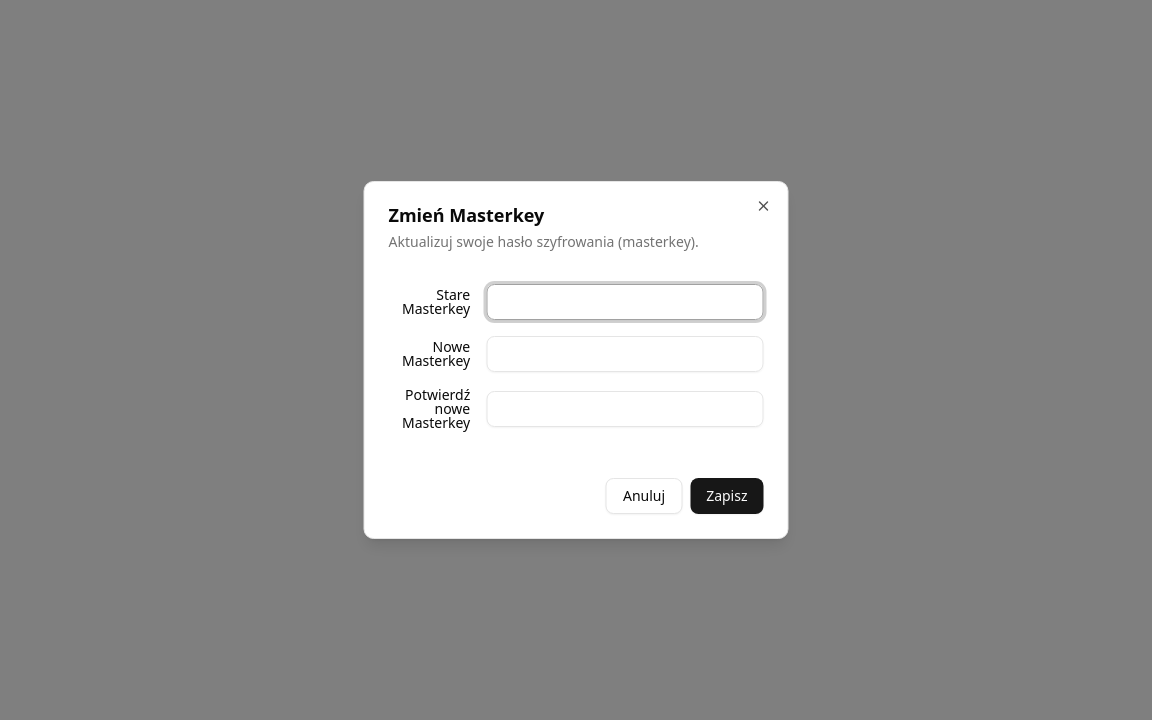
Komponent UpdateMasterkeyDialog › wyświetla błąd i nie zamyka dialogu przy nieudanej aktualizacji
In the password field labelled "Stare Masterkey": (625, 302) [486,284,764,320], type "oldkey"
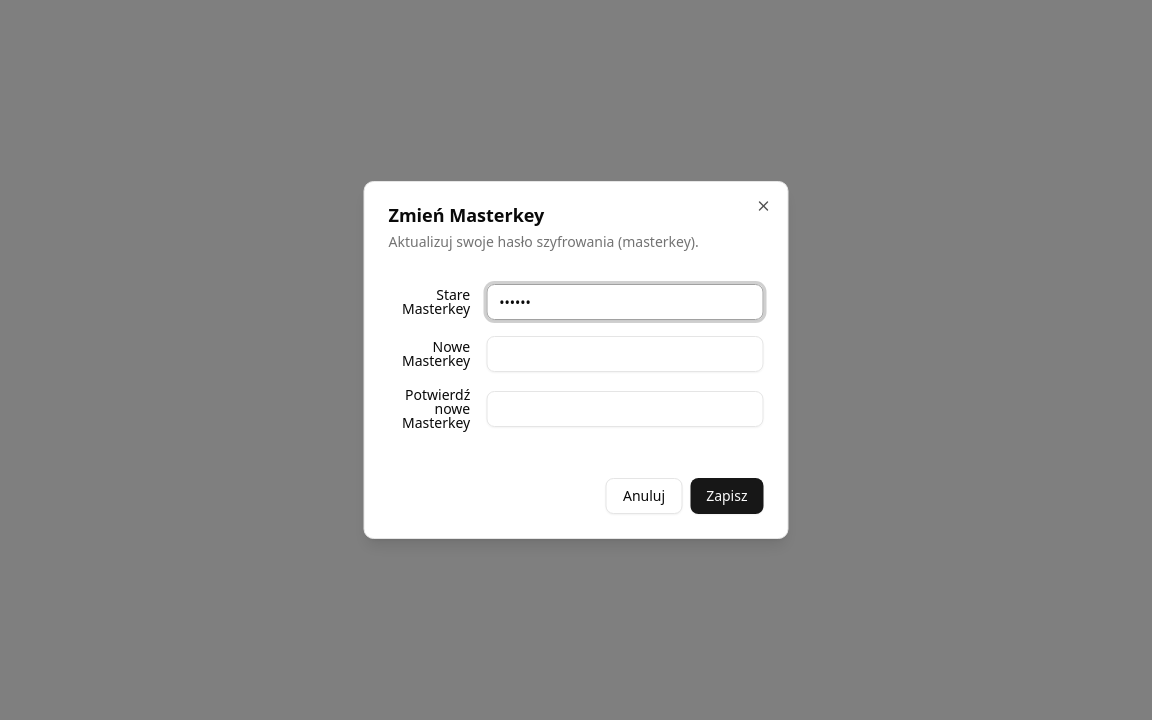
In the password field labelled "Nowe Masterkey": (625, 354) [486,336,764,372], type "newkey123"
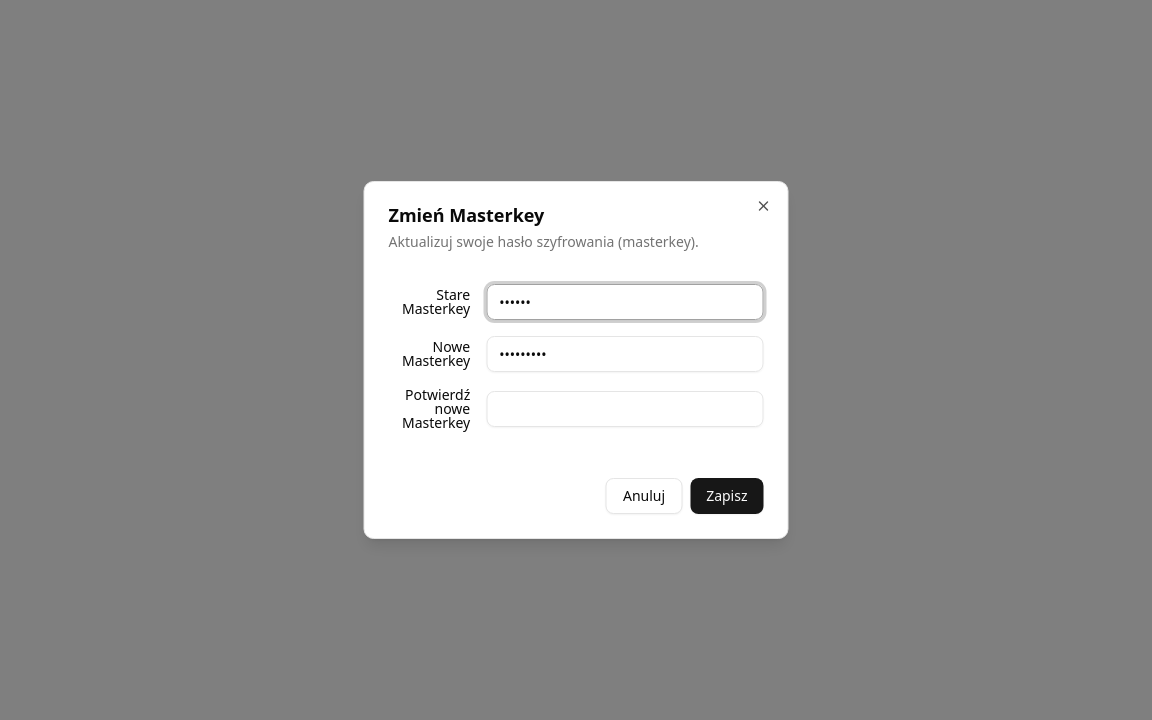
In the password field labelled "Potwierdź nowe Masterkey": (625, 409) [486,391,764,427], type "newkey123"
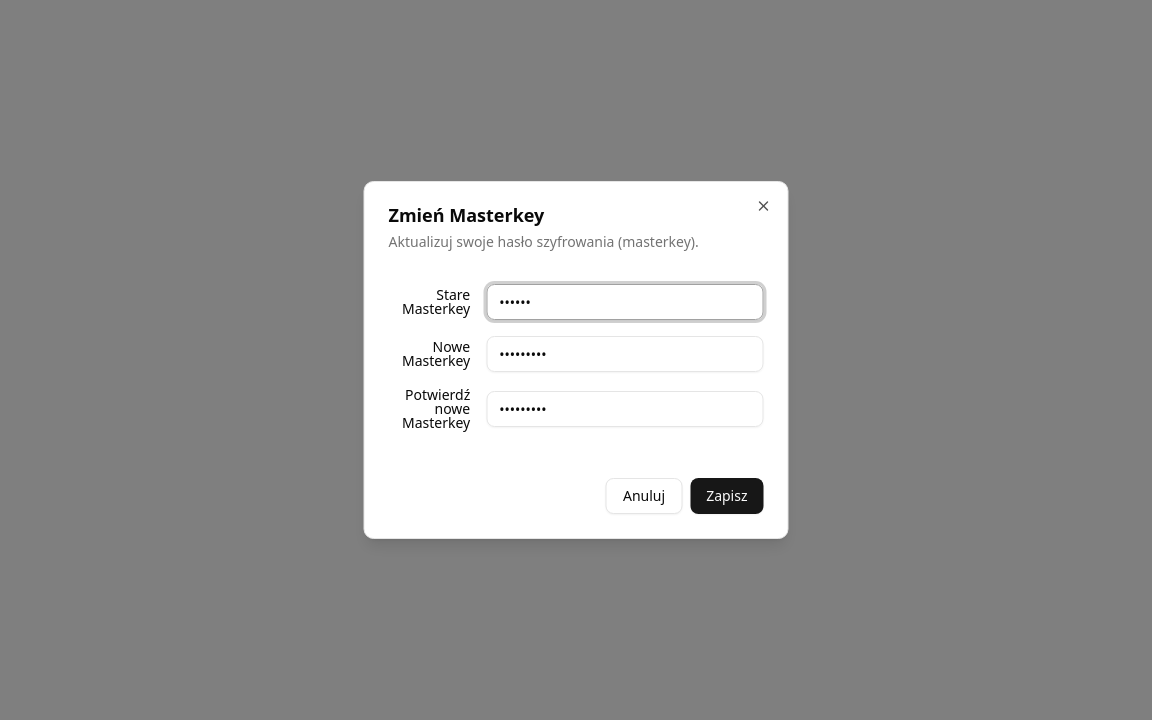
Click the button "Zapisz": (727, 496) [690,478,764,514]
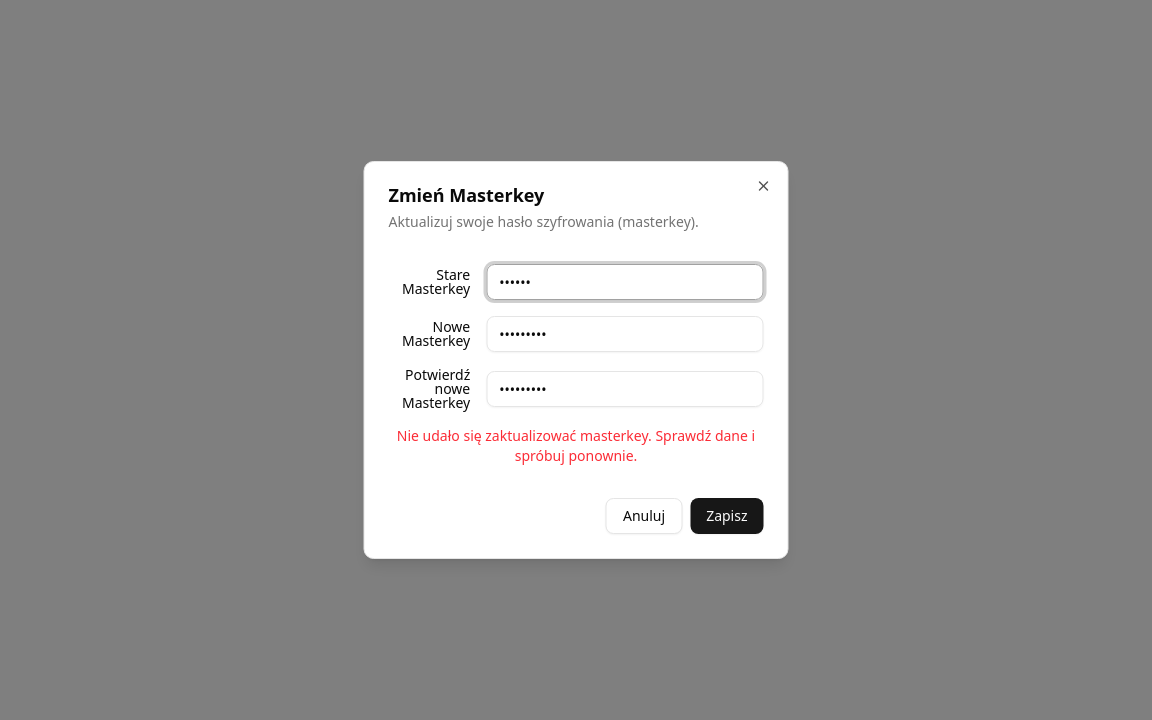
Check: the text "Nie udało się zaktualizować masterkey. Sprawdź dane i spróbuj ponownie" is shown, box [397,426,755,465]
